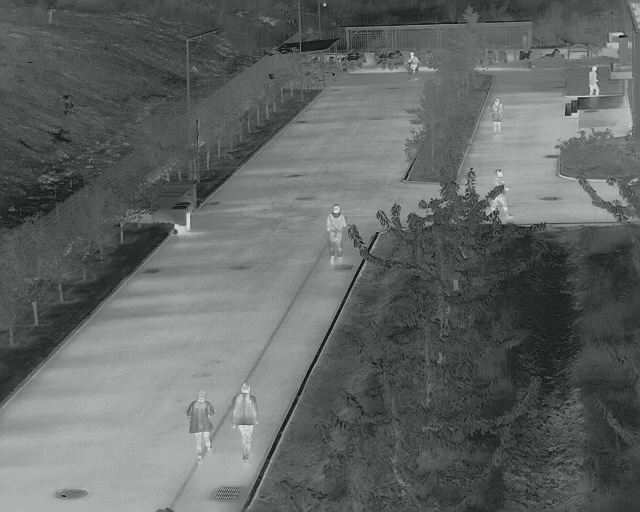person: (232, 380, 258, 459), (189, 392, 217, 464), (326, 202, 348, 267), (494, 169, 510, 214), (491, 96, 507, 139), (405, 47, 421, 76), (587, 65, 600, 95)
